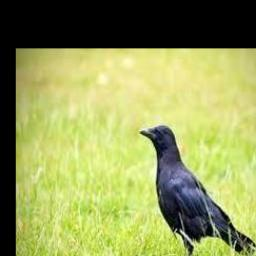Crow: (139, 125, 256, 256)
